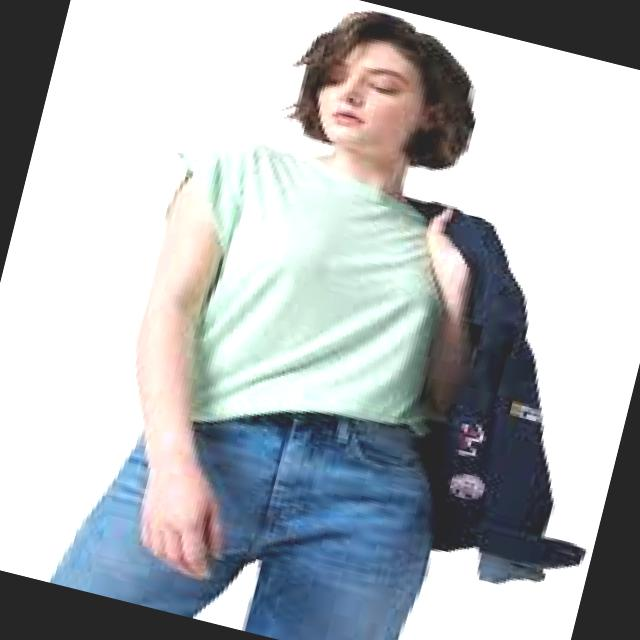face: (317, 41, 429, 159)
lower-wear: (50, 412, 433, 639)
top-wear: (178, 134, 442, 436)
